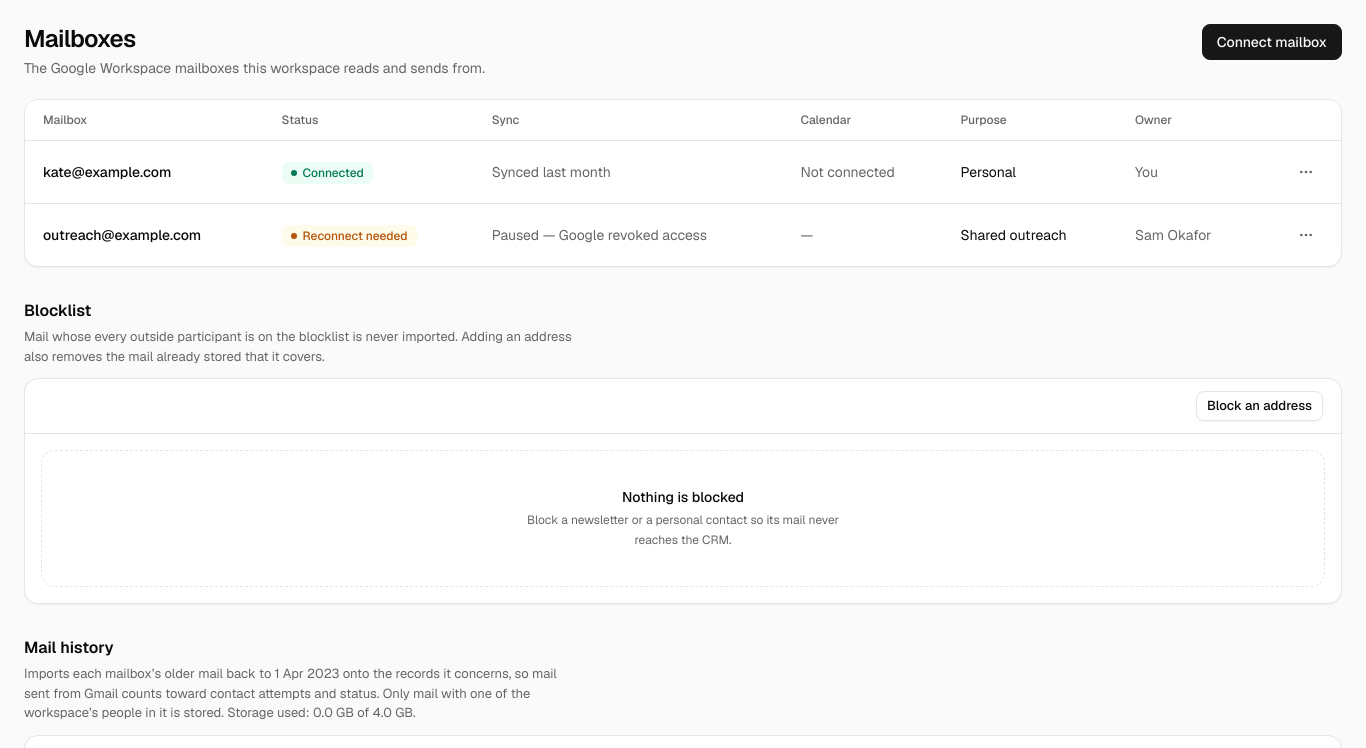
Test: #144: who a shared outreach mailbox sends as › is not offered for a personal mailbox
This screenshot has width=1366, height=748.
Click the button named "Actions for kate@example.com".
click(1306, 172)  # box [1289, 155, 1323, 189]
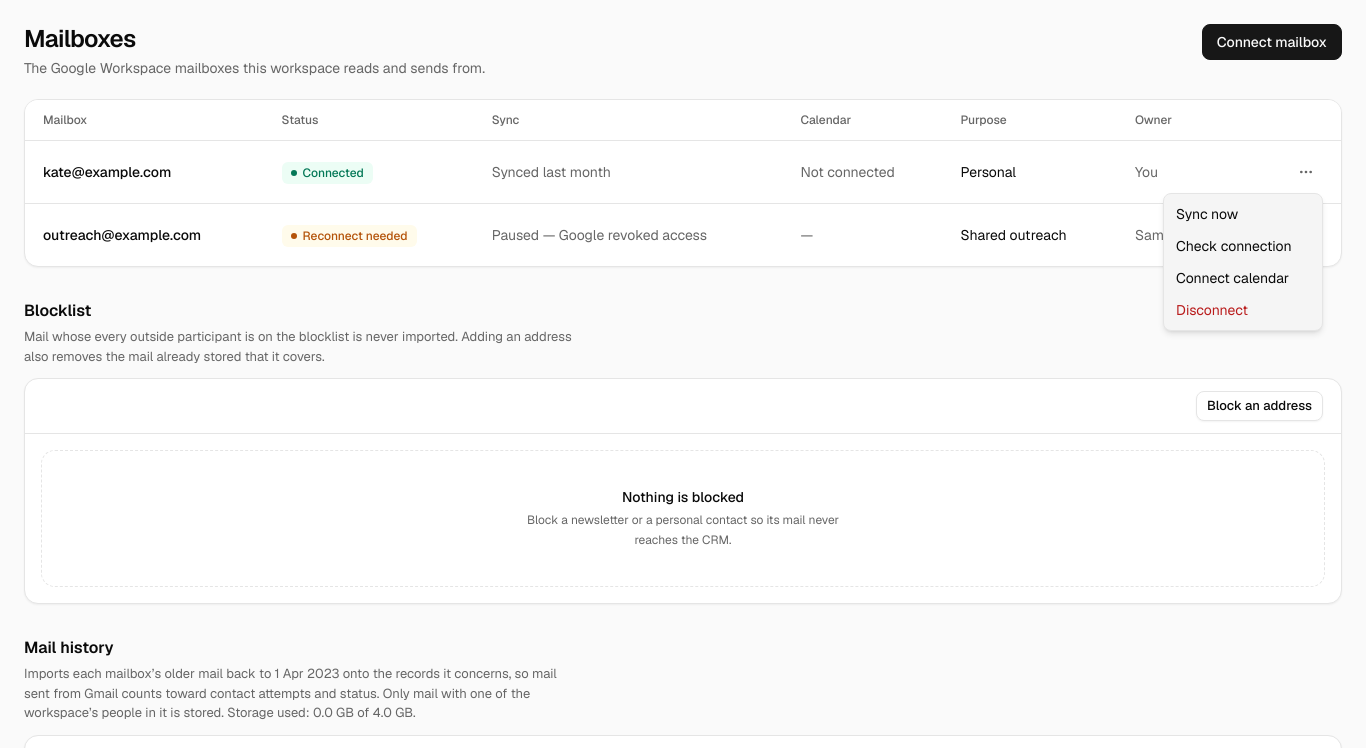
Now the menu item "Disconnect" is shown, box [1176, 301, 1248, 319]
